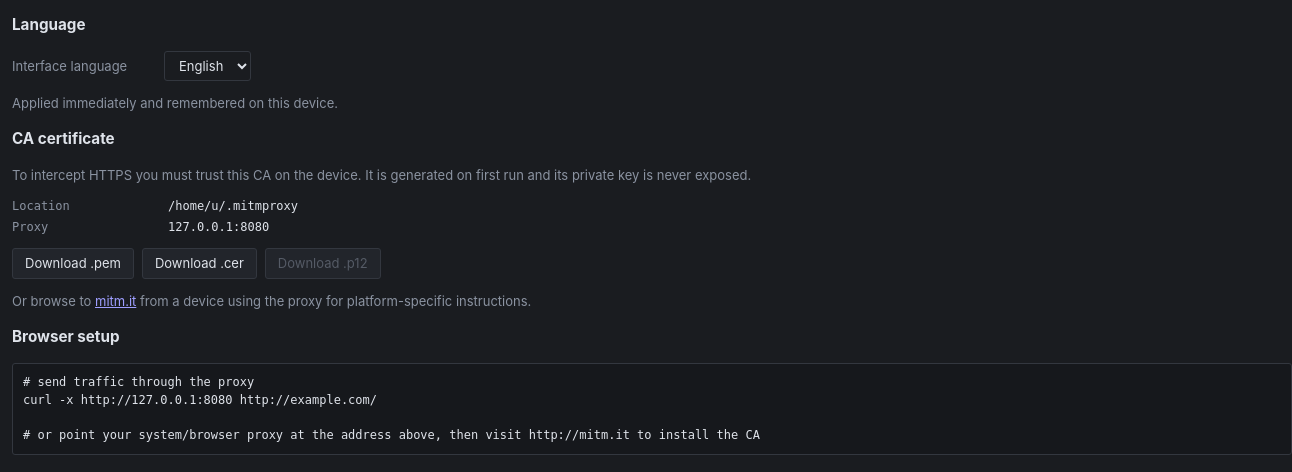
Settings language selector › switches the interface language immediately
Expected: the heading "CA certificate" is shown, 12,130 -> 115,148
Select "한국어" in the dropdown labelled "Interface language": (208, 66) 164,51 -> 251,81
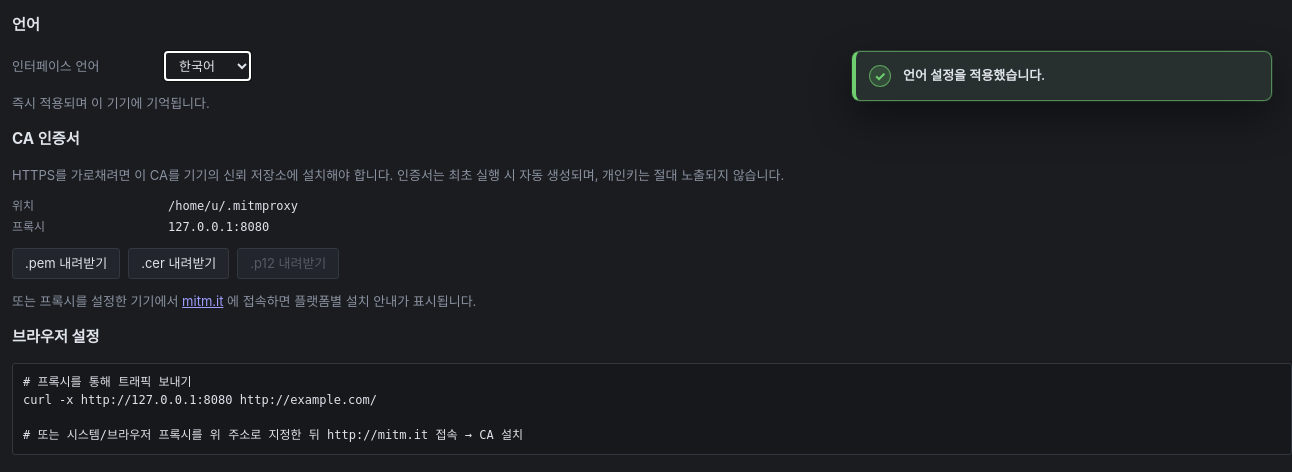
Expected: the heading "CA 인증서" is shown, 12,130 -> 80,148
Expected: the heading "CA certificate" is gone
